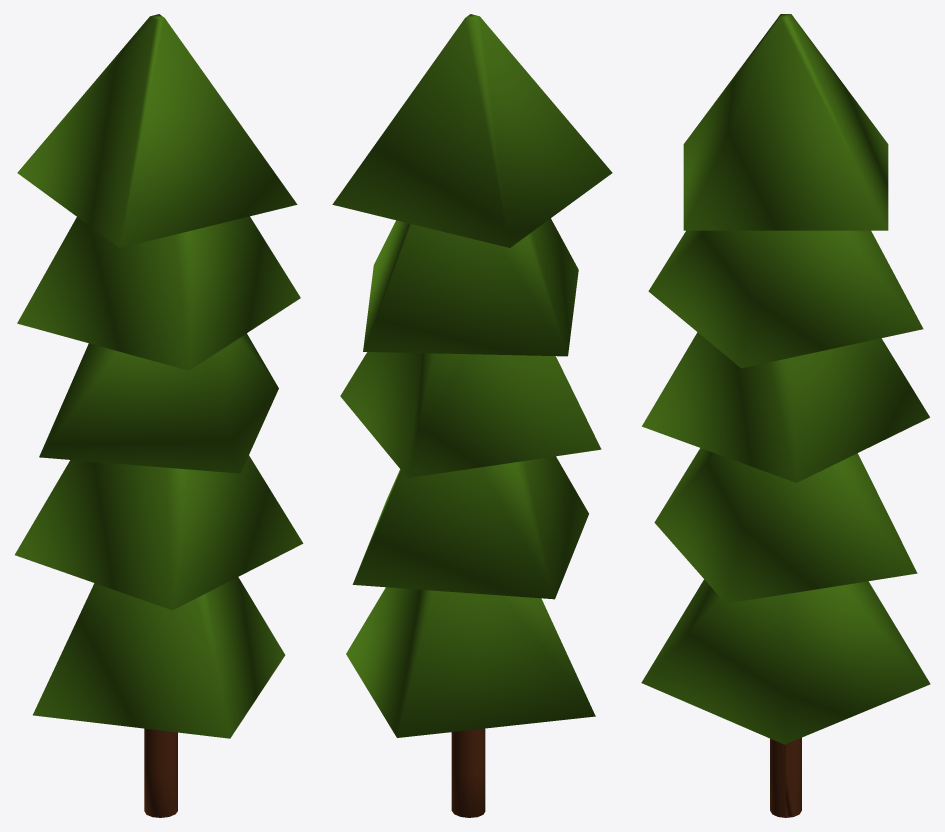
The model's file is tree.fbx.
3 views of the same model, side by side, from view 1: azimuth 30°, elevation 25°; view 2: azimuth 150°, elevation 25°; view 3: azimuth 270°, elevation 25° (orthographic).
Visible parts, largest first — view 1: tree_mesh; view 2: tree_mesh; view 3: tree_mesh.
Part boxes in pixels (x1,y1,x2,y2): tree_mesh: (15,14,303,817); tree_mesh: (332,14,612,817); tree_mesh: (641,14,930,817).
Size of the model in its own units: 20.43 by 61.73 by 20.43.
